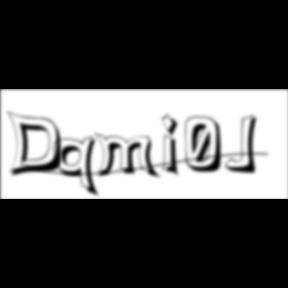0: (186, 115, 230, 174)
D: (7, 110, 70, 180)
J: (224, 114, 264, 176)
i: (162, 112, 186, 180)
m: (94, 132, 162, 181)
q: (55, 135, 104, 200)
